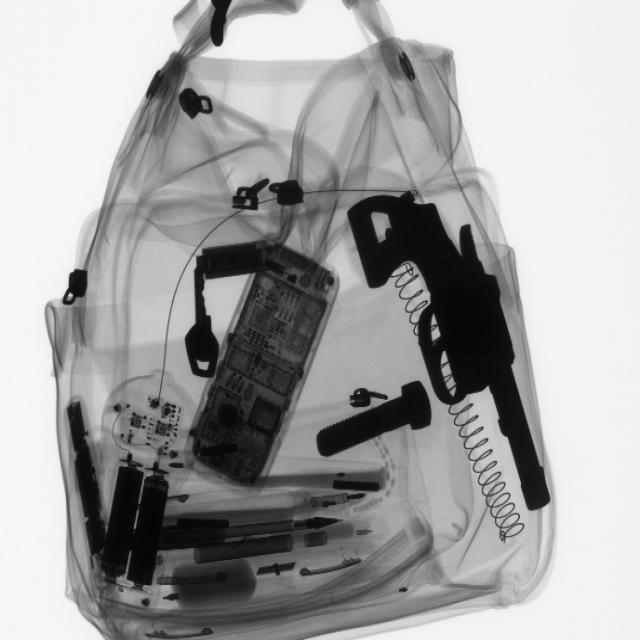GUN: (359, 194, 549, 517)
